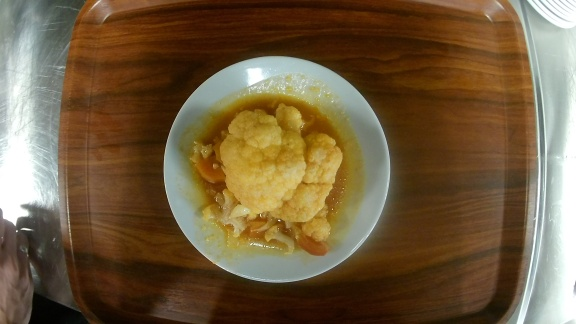karnibahar: (162, 53, 391, 283)
